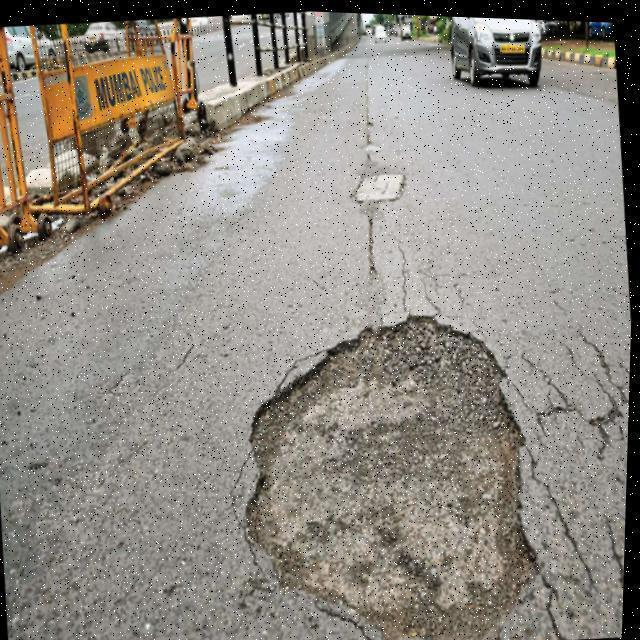Pothole: (253, 314, 539, 640)
